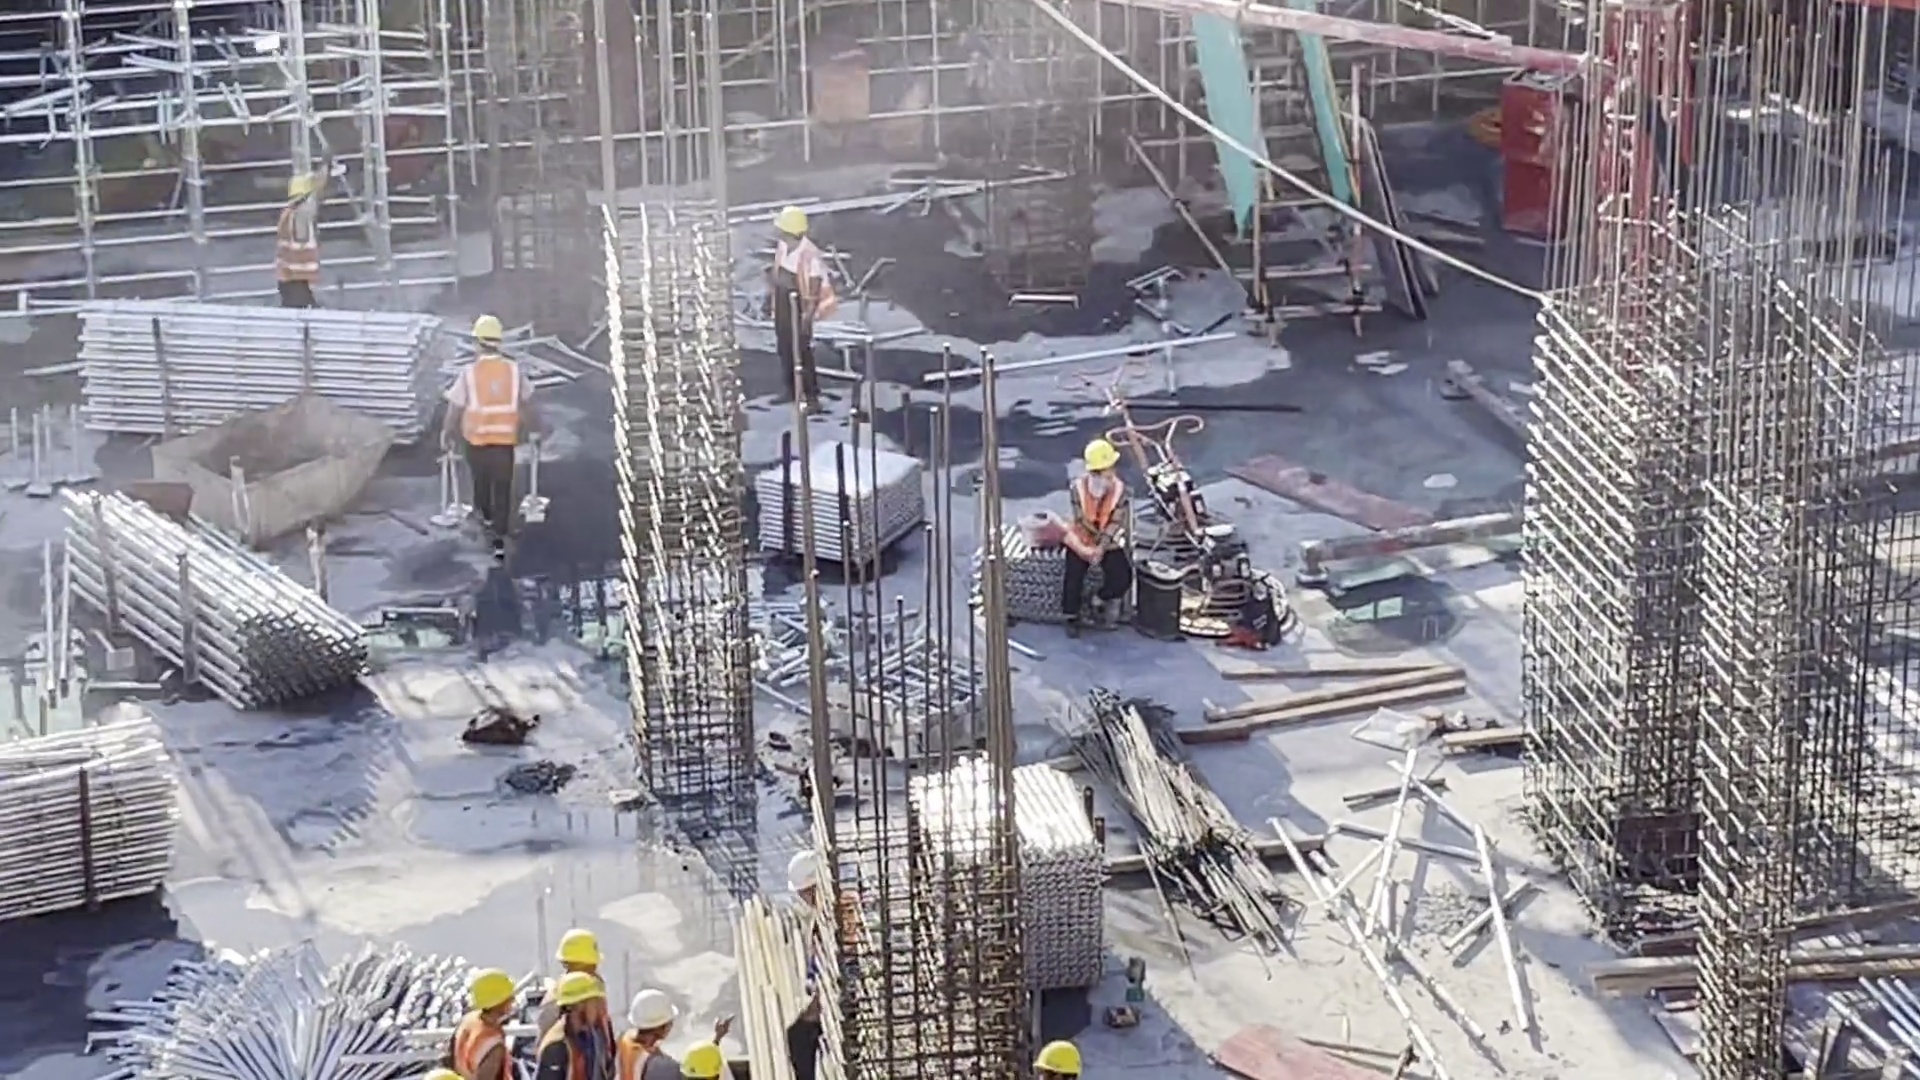helmet: (281, 171, 333, 249), (1088, 436, 1141, 511), (619, 1002, 673, 1052), (554, 929, 591, 986), (479, 961, 526, 1001), (471, 309, 511, 351), (778, 194, 811, 241), (1034, 1037, 1073, 1072), (563, 1002, 579, 1057), (694, 1044, 716, 1080), (434, 1066, 450, 1080)
hopper: (159, 399, 389, 527)
person: (781, 838, 896, 1080), (474, 311, 541, 513), (1071, 445, 1144, 581), (774, 211, 828, 366), (273, 171, 331, 306), (561, 978, 608, 1061), (793, 840, 838, 925), (631, 996, 674, 1080), (464, 963, 509, 1036), (1028, 1033, 1094, 1080), (686, 1036, 720, 1080), (561, 936, 618, 961), (443, 1058, 462, 1080)
rebar: (1051, 670, 1301, 975)
scaffold: (91, 282, 476, 486), (48, 482, 374, 706), (936, 766, 1121, 1027), (1, 697, 174, 947), (751, 454, 921, 552)
vest: (476, 361, 524, 461), (824, 902, 868, 1001), (1058, 484, 1118, 554), (779, 242, 831, 316), (283, 212, 333, 287), (458, 1021, 505, 1080), (616, 1029, 668, 1077), (551, 1029, 598, 1080), (544, 976, 581, 1014)
